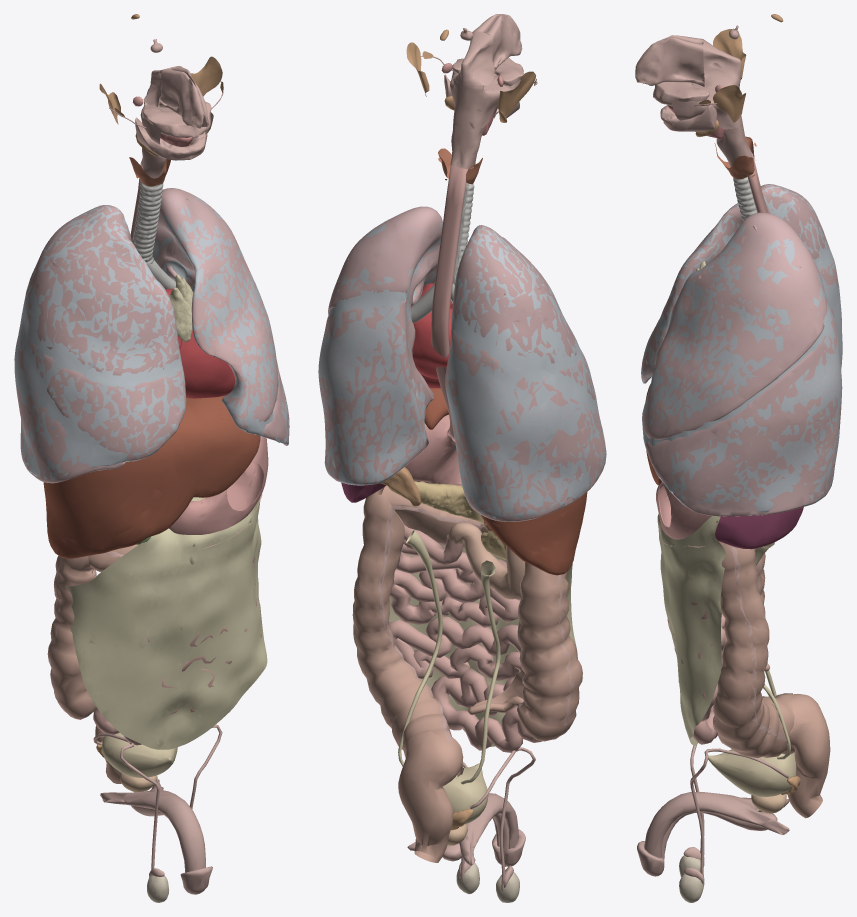
Rendered from organos.glb.
The picture shows the model from 3 angles, left to right: view 1: azimuth 30°, elevation 25°; view 2: azimuth 150°, elevation 25°; view 3: azimuth 270°, elevation 25°; orthographic projection. The views are drawn at different scales.
Parts seen in each view (by area): view 1: organos; view 2: organos; view 3: organos.
Part boxes in pixels (x1,y1,x2,y2): organos: (14,14,289,902); organos: (318,14,606,902); organos: (635,14,842,902).
Size of the model in its own units: 0.2611 by 0.8932 by 0.1911.
